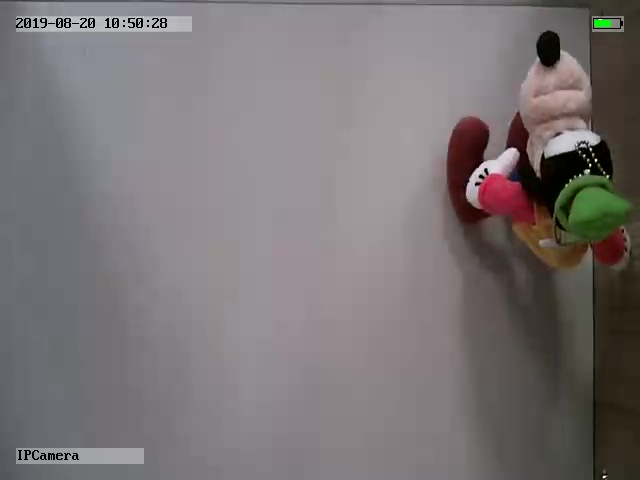goofy: (441, 29, 635, 272)
